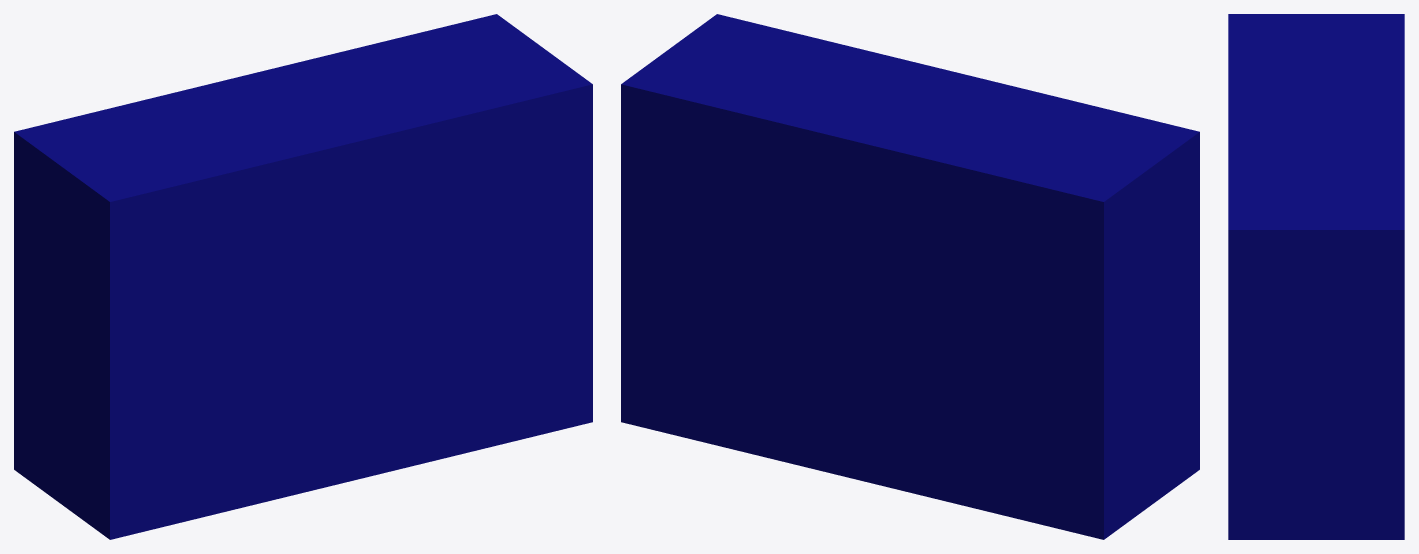
The model's file is bridge_bk.DAE.
3 renders of one model, left to right at view 1: azimuth 30°, elevation 25°; view 2: azimuth 150°, elevation 25°; view 3: azimuth 270°, elevation 25°, orthographic. The views are drawn at different scales.
Parts seen in each view (by area): view 1: bounds; view 2: bounds; view 3: bounds.
Boxes of the visible parts, box(x1,y1,x2,y2) form: bounds: box(14, 14, 592, 539); bounds: box(621, 14, 1199, 539); bounds: box(1228, 14, 1404, 539).
Size of the model in its own units: 21.7 by 7.48 by 14.51.
